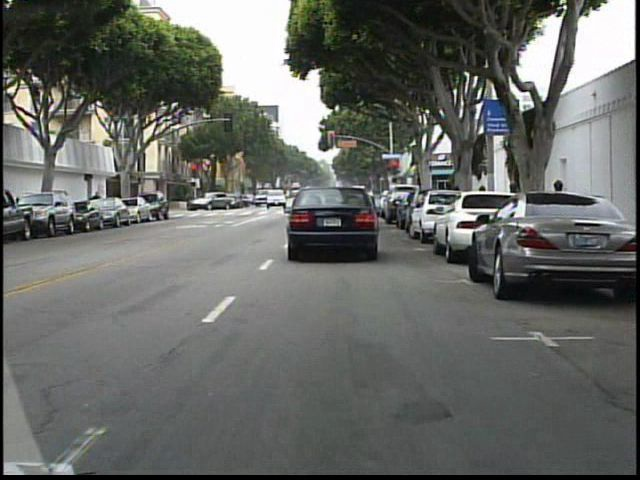person: (89, 188, 106, 224), (185, 190, 199, 215)
